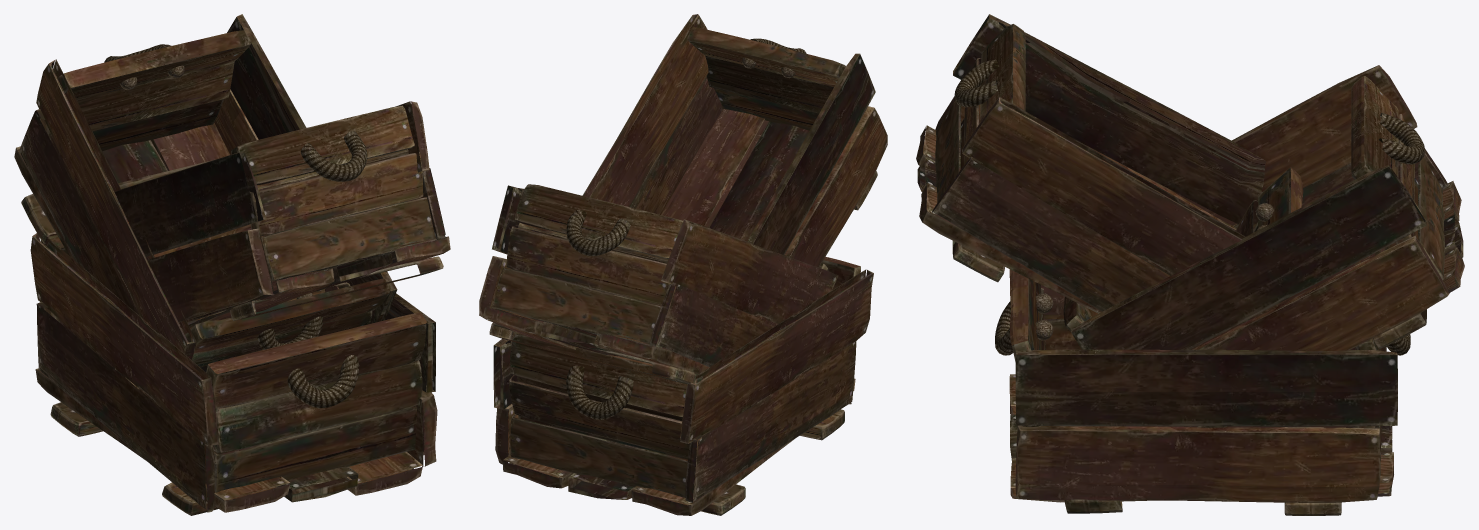
3 views of the same model, side by side, from view 1: azimuth 30°, elevation 25°; view 2: azimuth 150°, elevation 25°; view 3: azimuth 270°, elevation 25° (orthographic). The views are drawn at different scales.
Visible parts, largest first — view 1: SM_Garou_Crate_03_LOD0; view 2: SM_Garou_Crate_03_LOD0; view 3: SM_Garou_Crate_03_LOD0.
Part boxes in pixels (bbox=[...]): SM_Garou_Crate_03_LOD0: bbox=[14, 14, 450, 515]; SM_Garou_Crate_03_LOD0: bbox=[479, 14, 887, 515]; SM_Garou_Crate_03_LOD0: bbox=[916, 14, 1464, 515].
Bounding box in the file's own units: 1.06 × 1.63 × 2.02.
Materials: 1 (1 with a texture image).
